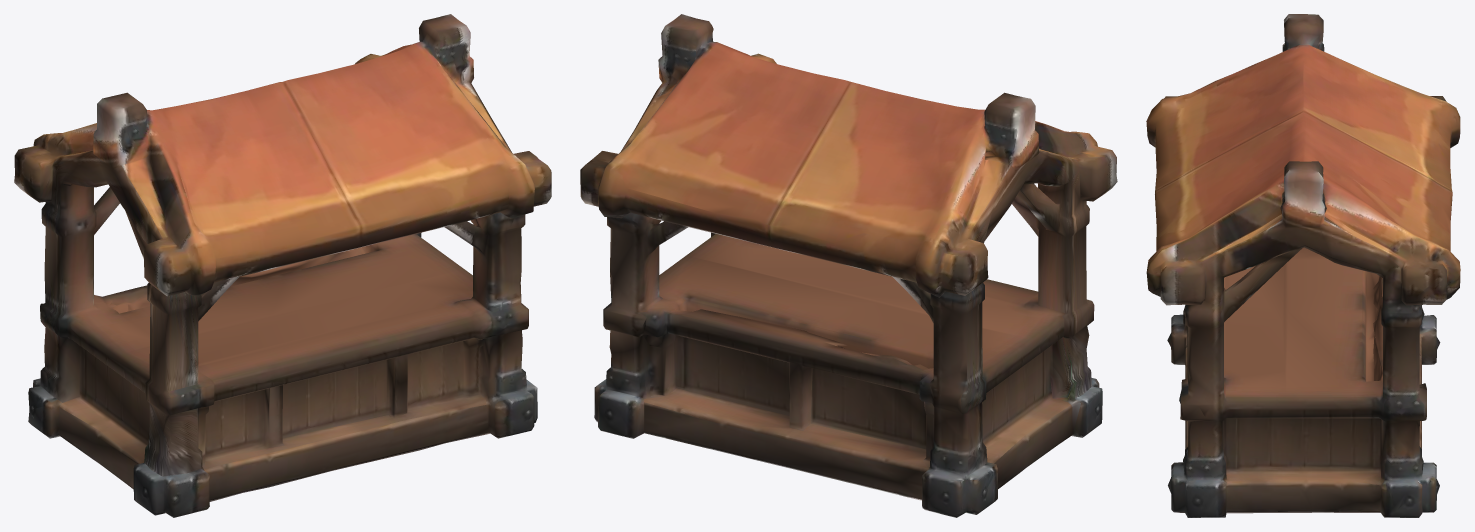
Rendered from SM_Env_MarketStall.glb.
3 views of the same model, side by side, from view 1: azimuth 30°, elevation 25°; view 2: azimuth 150°, elevation 25°; view 3: azimuth 270°, elevation 25° (orthographic). The views are drawn at different scales.
Parts seen in each view (by area): view 1: SM_Env_MarketStall_LOD0; view 2: SM_Env_MarketStall_LOD0; view 3: SM_Env_MarketStall_LOD0.
Part boxes in pixels (bbox=[...]): SM_Env_MarketStall_LOD0: bbox=[14, 14, 551, 517]; SM_Env_MarketStall_LOD0: bbox=[580, 14, 1117, 517]; SM_Env_MarketStall_LOD0: bbox=[1146, 14, 1460, 517].
Size of the model in its own units: 3.49 by 3.09 by 2.6.
1 material, 1 textured.
